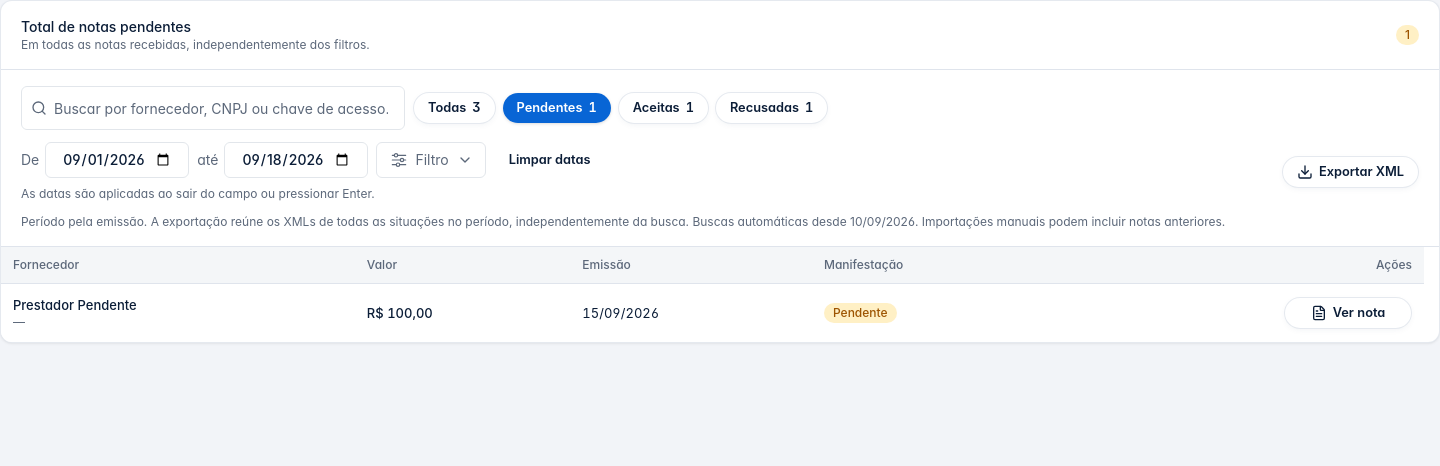
Scenario: conta também aceitas e recusadas, ignora a situação atual e aplica a busca
The width and height of the screenshot is (1440, 466).
expect the button with aria-label "Todas (3)" is shown: met, box [413,92,496,124]
expect the button with aria-label "Pendentes (1)" is shown: met, box [502,92,612,124]
Type "lançado" into the field named "Buscar notas" at coordinates (213, 108), box [21,86,405,130]
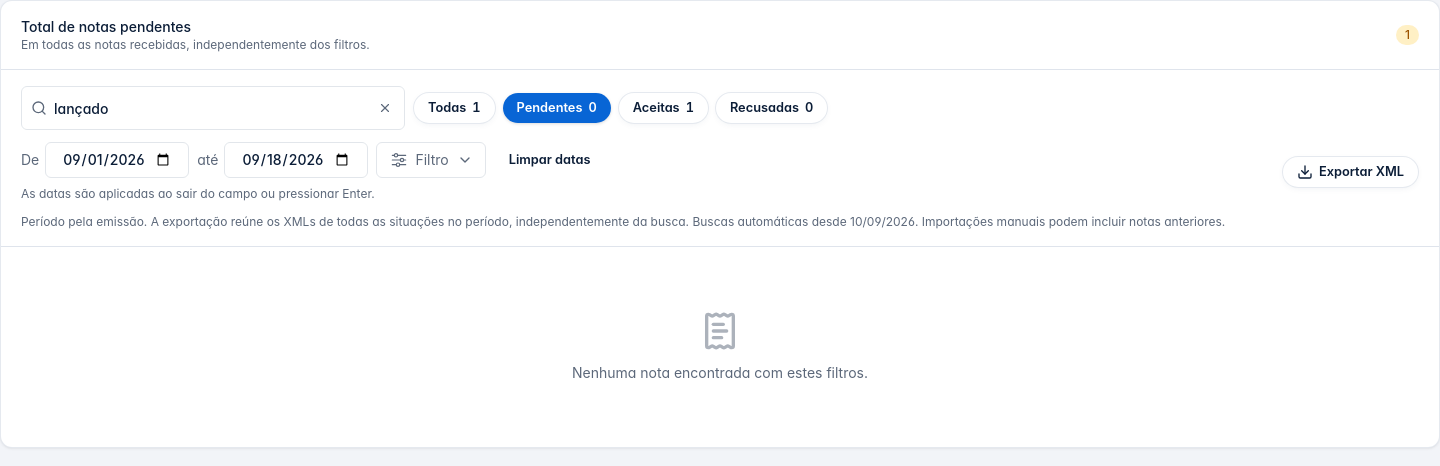
expect the button with aria-label "Todas (1)" is shown: met, box [413,92,496,124]
expect the button with aria-label "Pendentes (0)" is shown: met, box [502,92,612,124]
expect the button with aria-label "Recusadas (0)" is shown: met, box [715,92,828,124]
Click the button with aria-label "Aceitas (1)" at coordinates (663, 108), box [618,92,709,124]
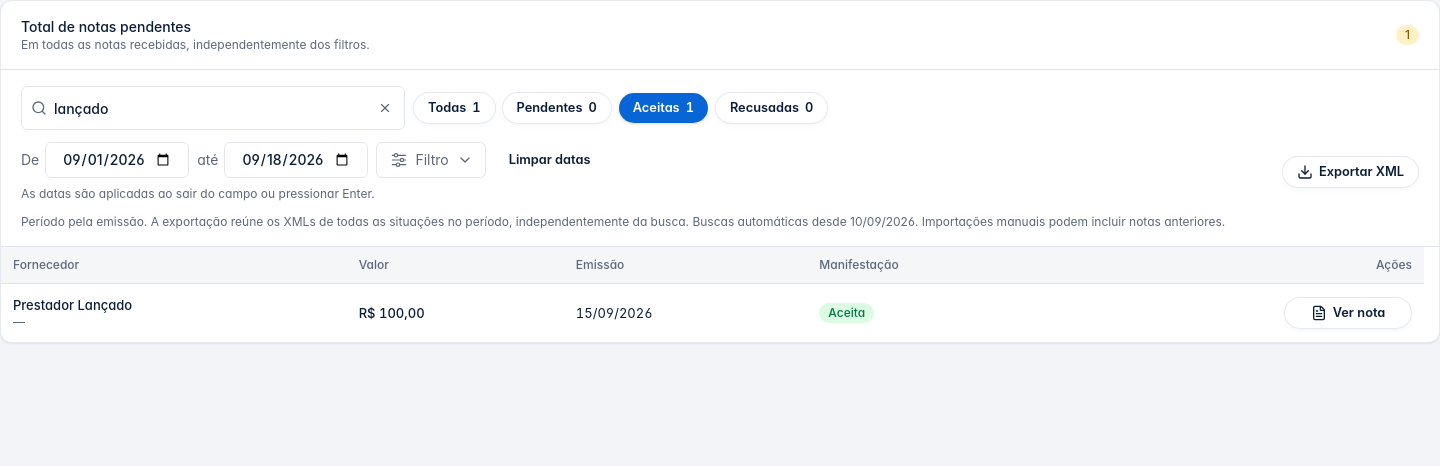
expect the text "Prestador Lançado" is shown: met, box [13,296,132,312]
